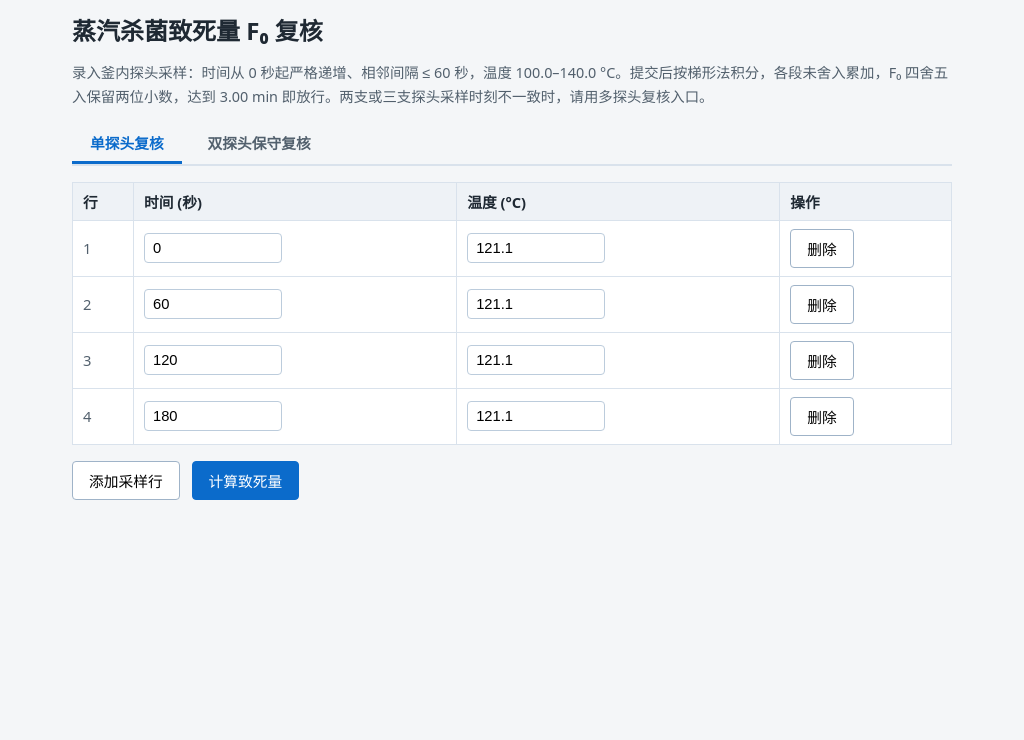
Scenario: 双探头失败隔离 › 双探头 422 按探头与行展示，并清除双探头结果
Click the tab "双探头保守复核".
click(259, 144)  # box [190, 124, 329, 164]
(page scrolled)
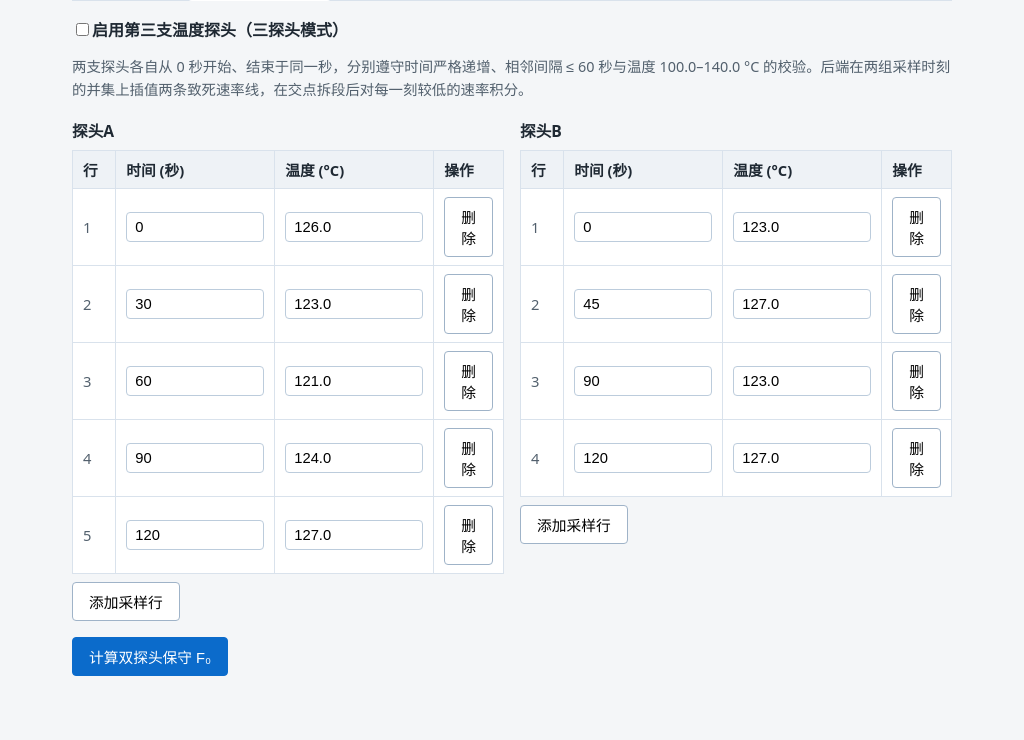
Click the button with test id "dual-submit".
click(150, 657)  # box [72, 637, 228, 676]
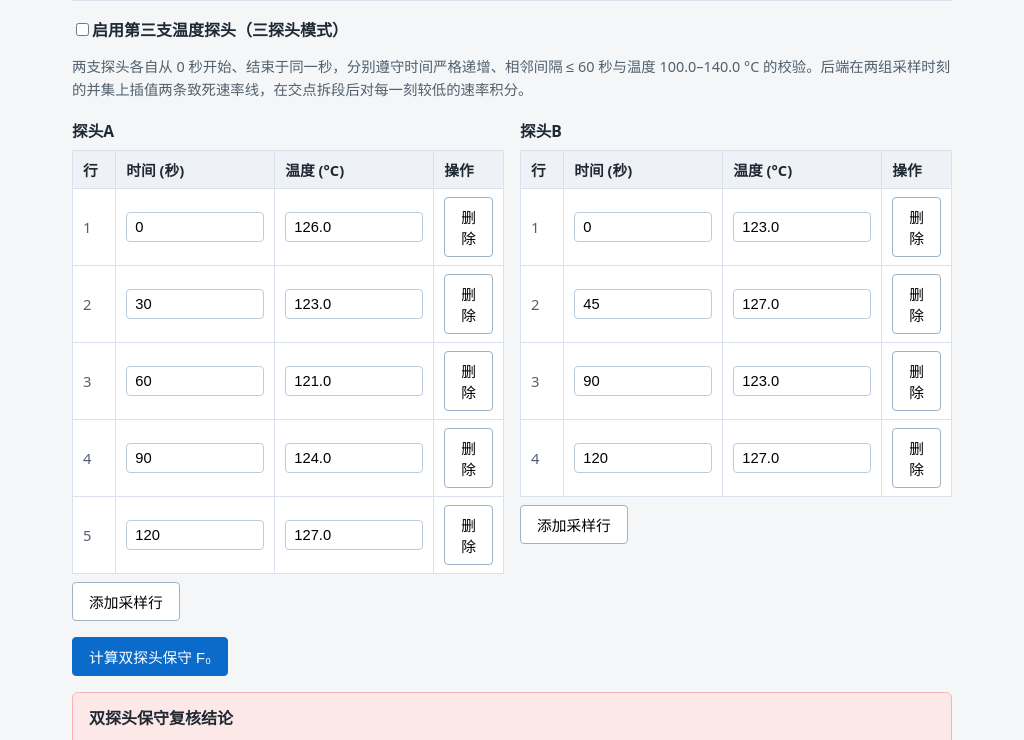
Click the button with test id "dual-submit".
click(150, 657)  # box [72, 637, 228, 676]
(page scrolled)
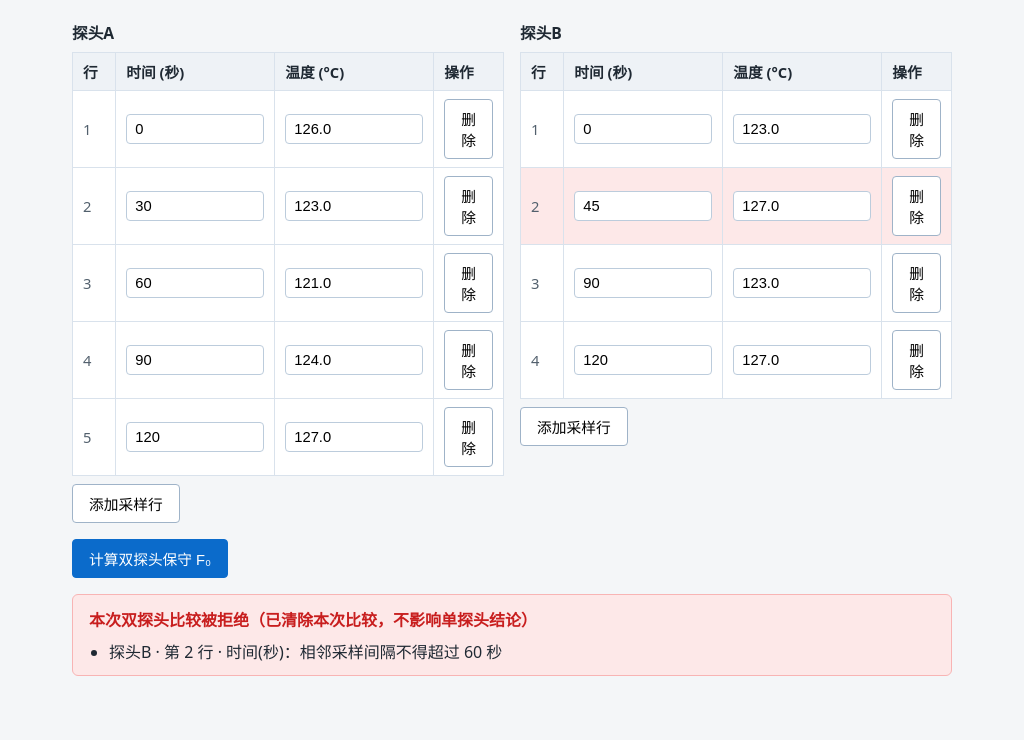
Now the message shows "探头B", box [109, 641, 164, 663]
Now the message shows "第 2 行", box [164, 641, 226, 663]
